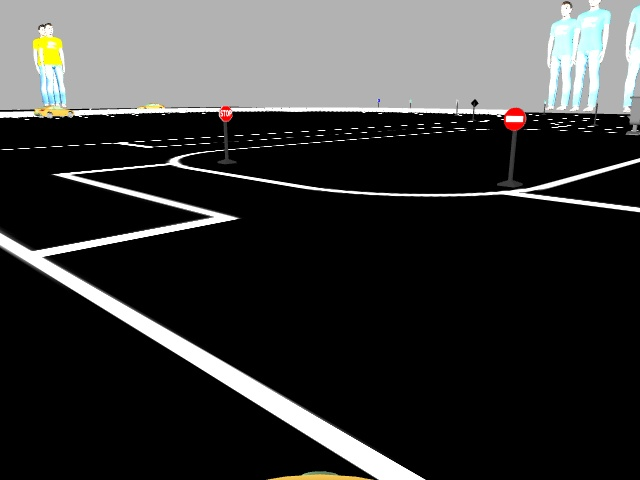NoEntry: (502, 108, 525, 128)
Stop: (217, 104, 230, 121)
